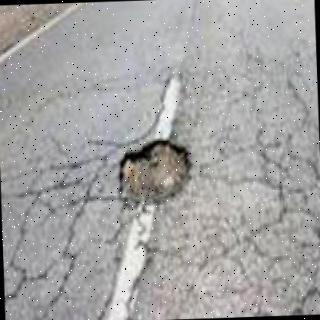pothole: (120, 141, 192, 207)
